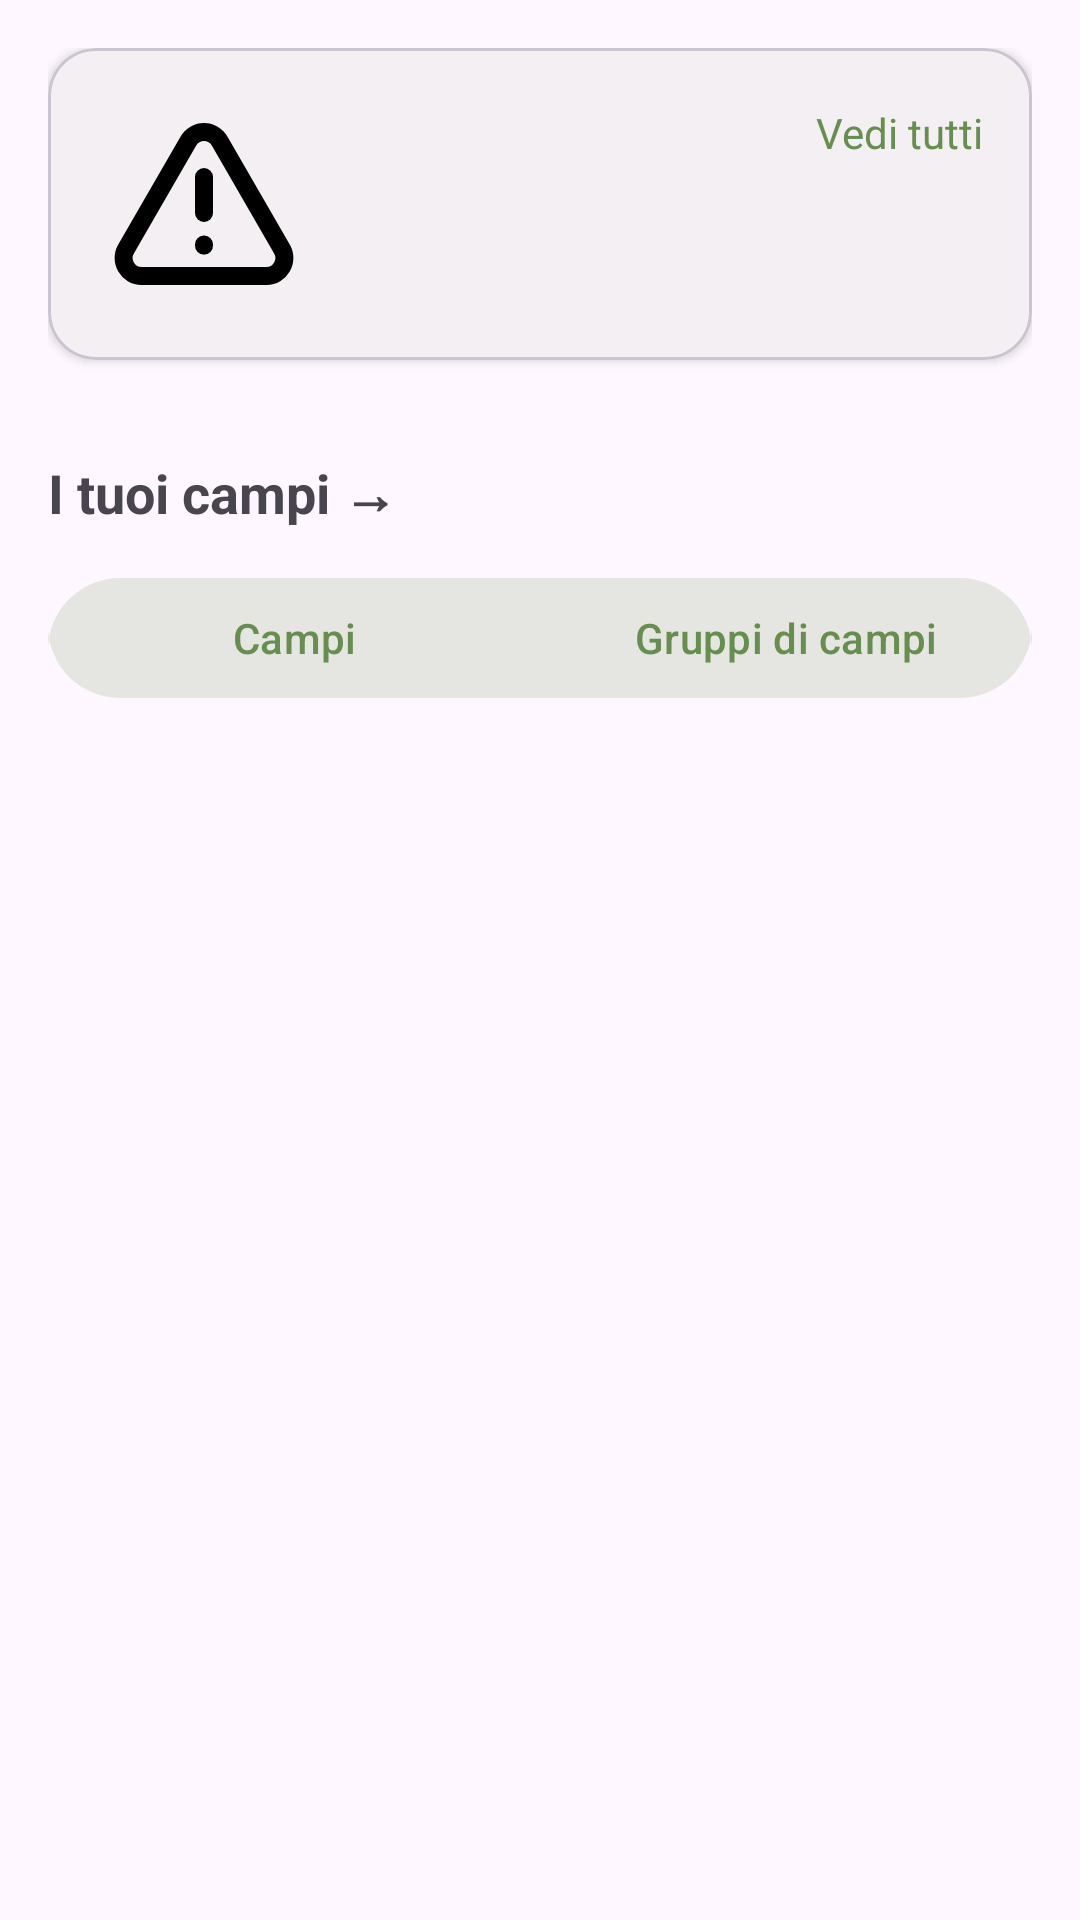

Named icons in this screenshot (1080x1920) and their centers, point (x, y):
alert: point (204, 204)
